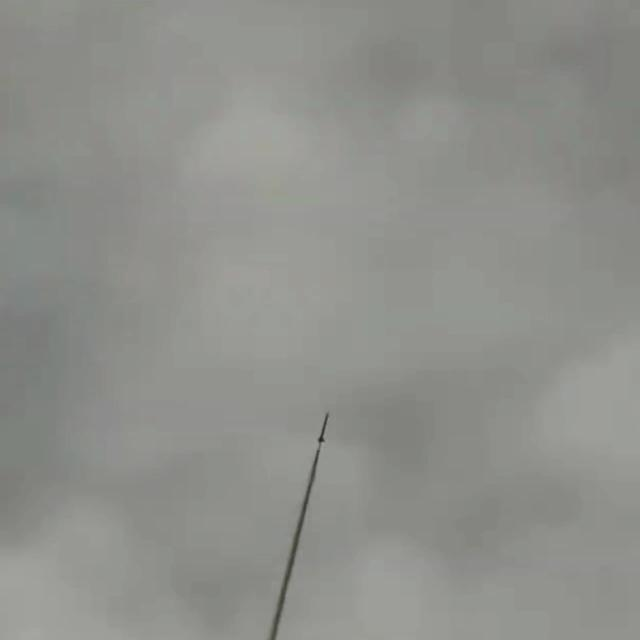smoke_trail_with_rocket: (263, 414, 328, 640)
